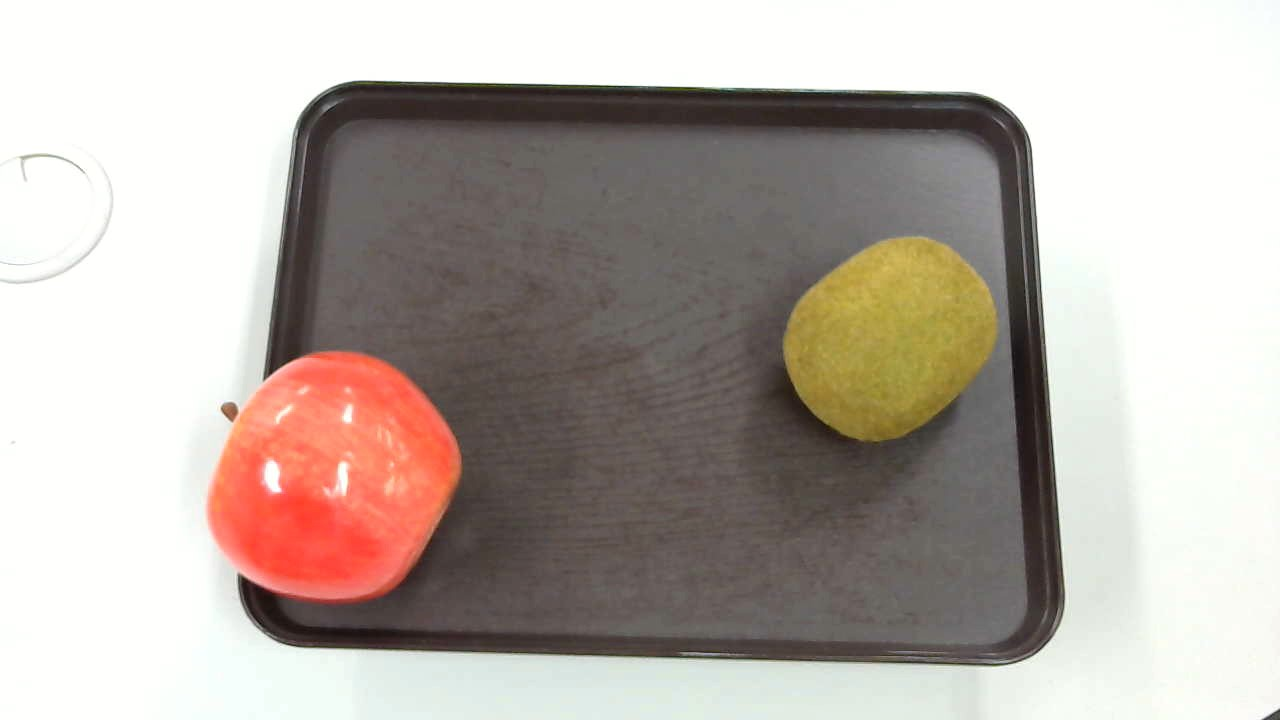kiwi fruit: (779, 235, 1004, 449)
red apple: (207, 342, 468, 613)
